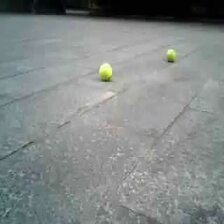tennis: (98, 63, 113, 78), (166, 48, 175, 61)
